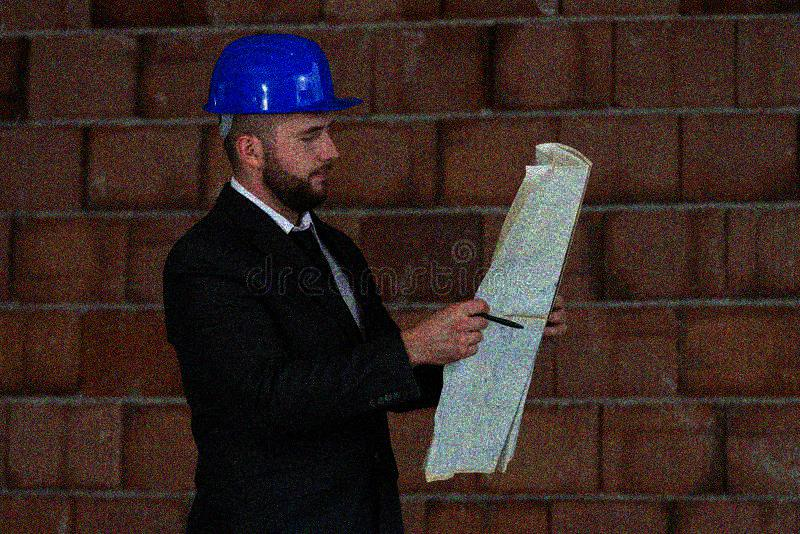helmet: (197, 30, 357, 211)
